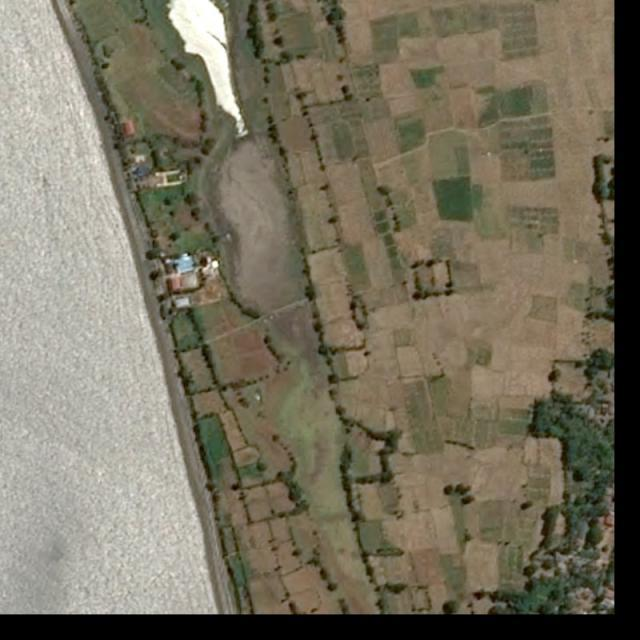ship: (43, 177, 47, 182)
